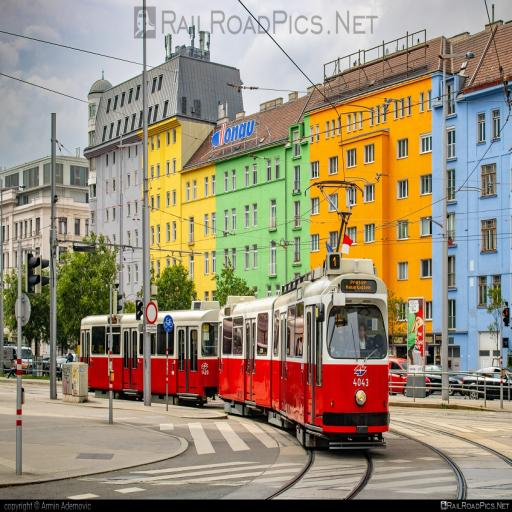E2-Tram: (79, 250, 392, 454)
